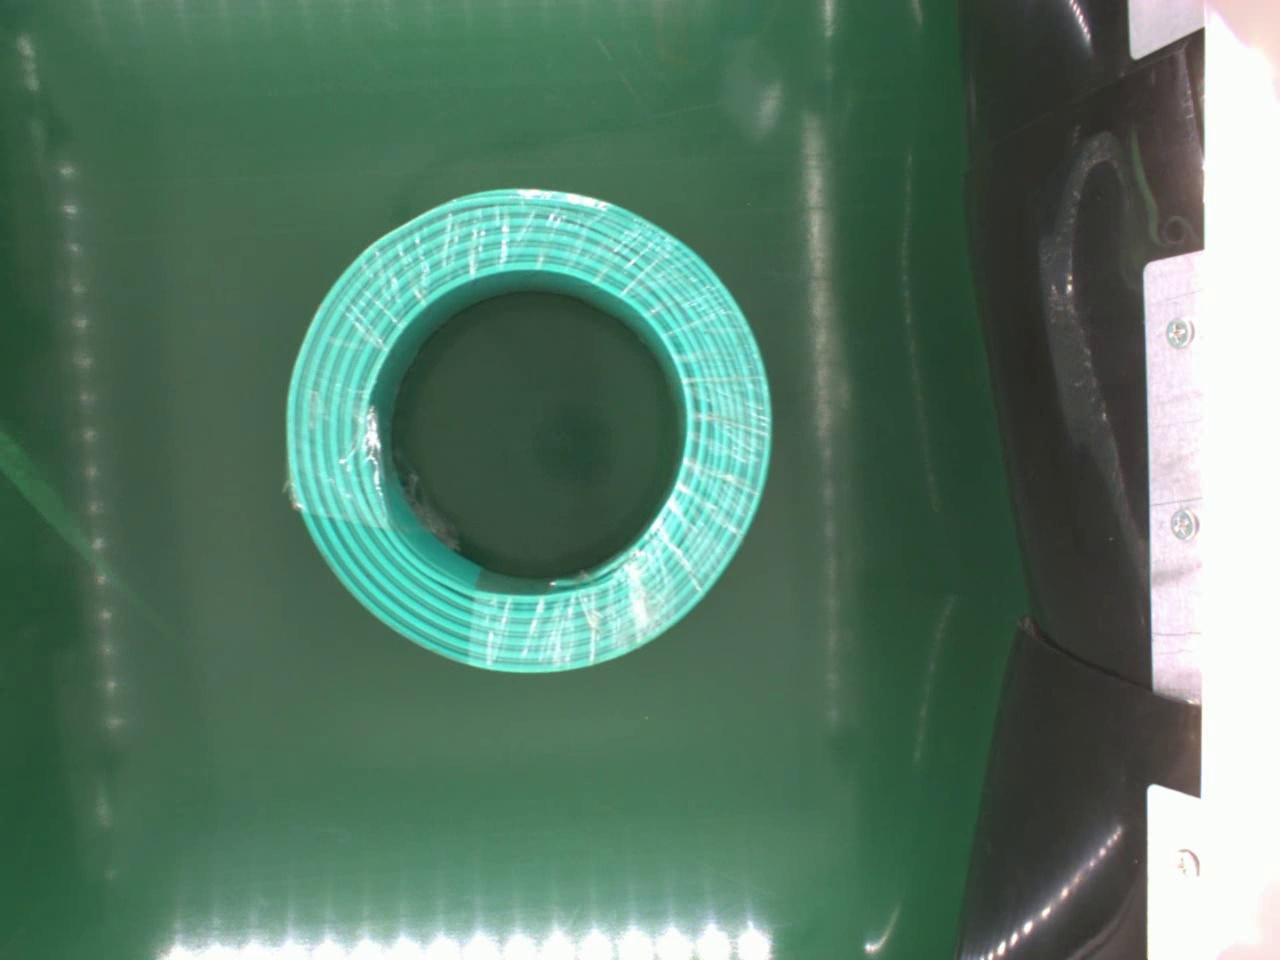green: (281, 185, 771, 680)
